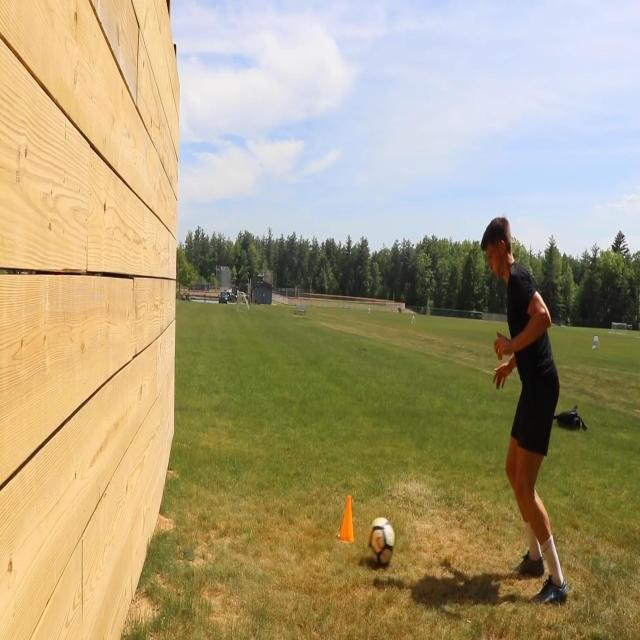Soccer Ball: (366, 515, 396, 570)
